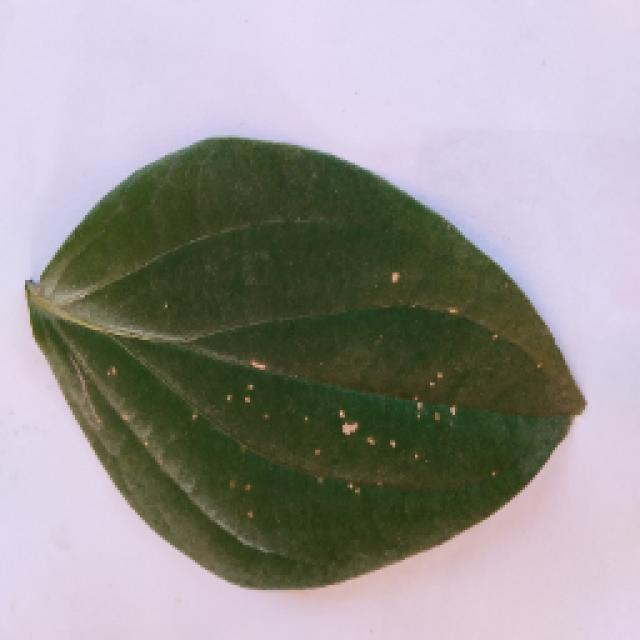pollu-disease: (15, 162, 587, 620)
